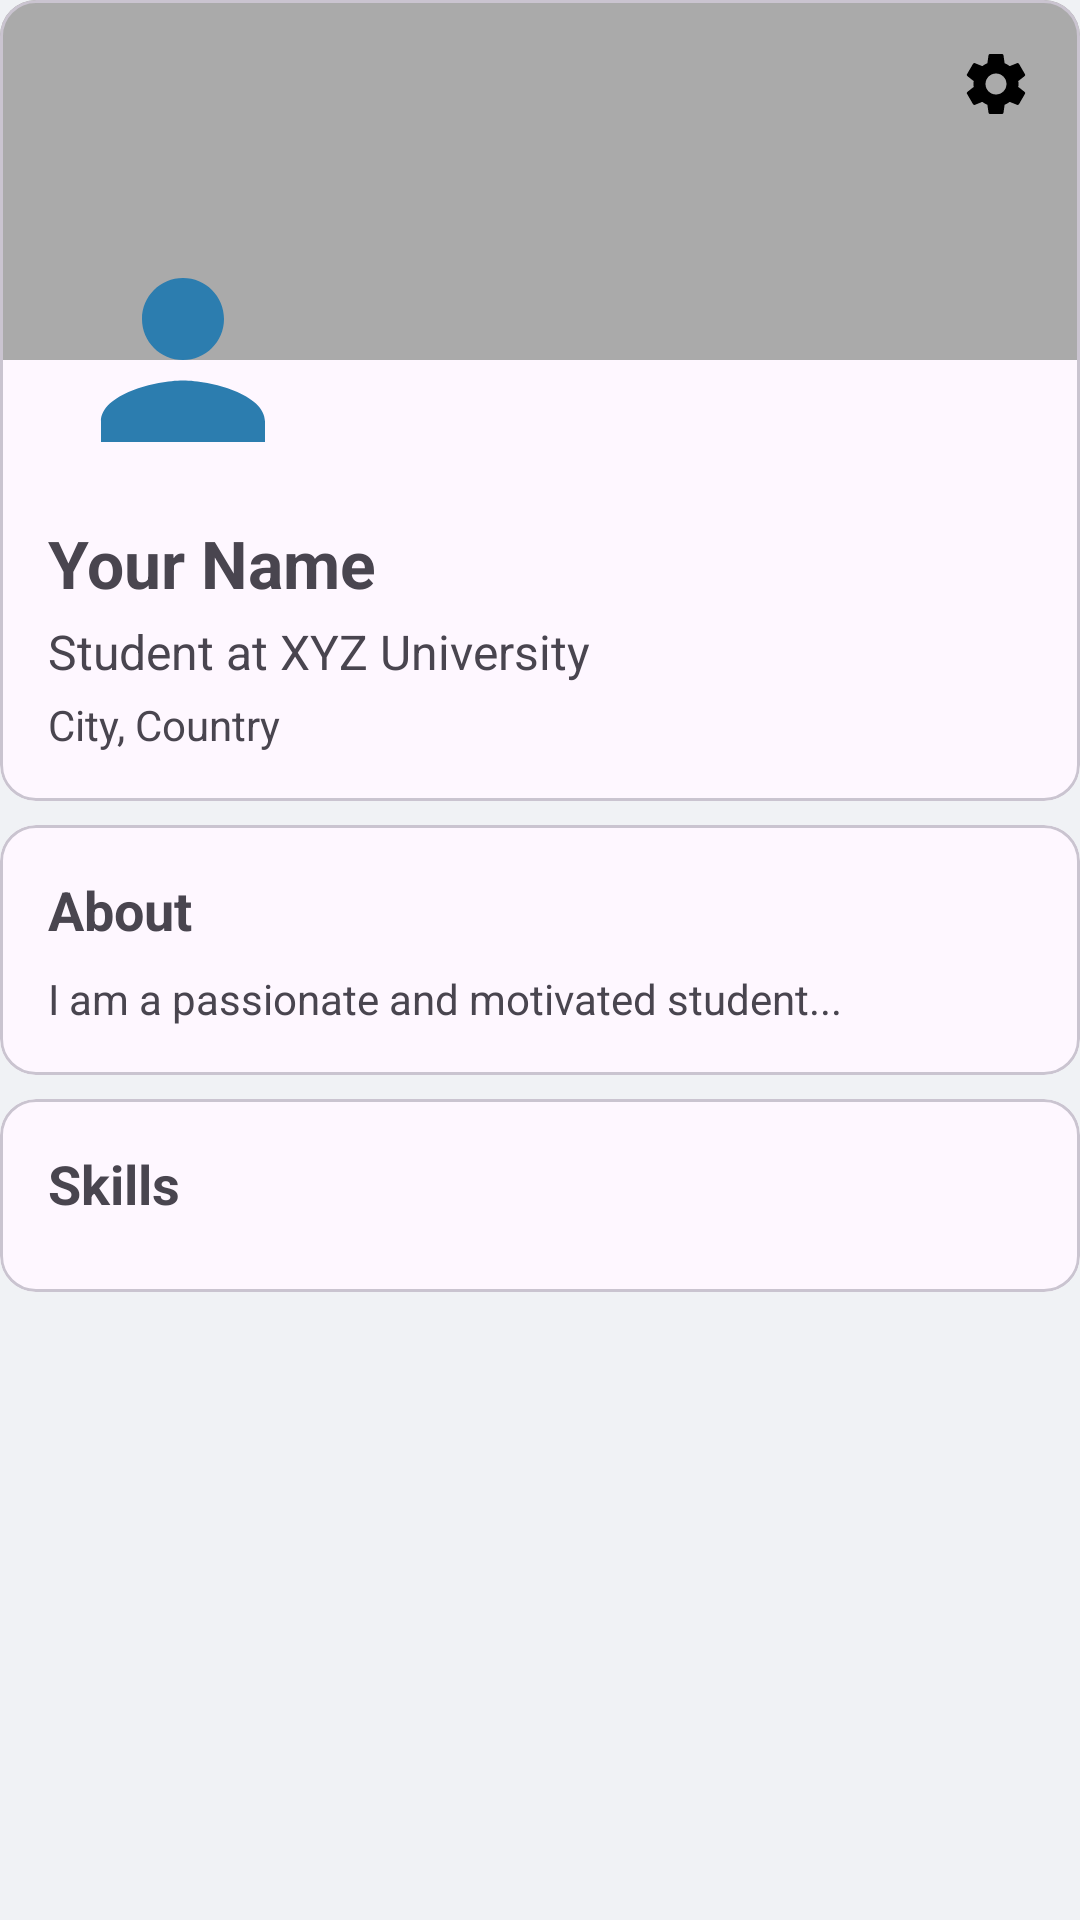

Named icons in this screenshot (1080 × 1920) and their centers, (x=x, y=y):
profile nav: (x=183, y=360)
settings: (x=996, y=84)
